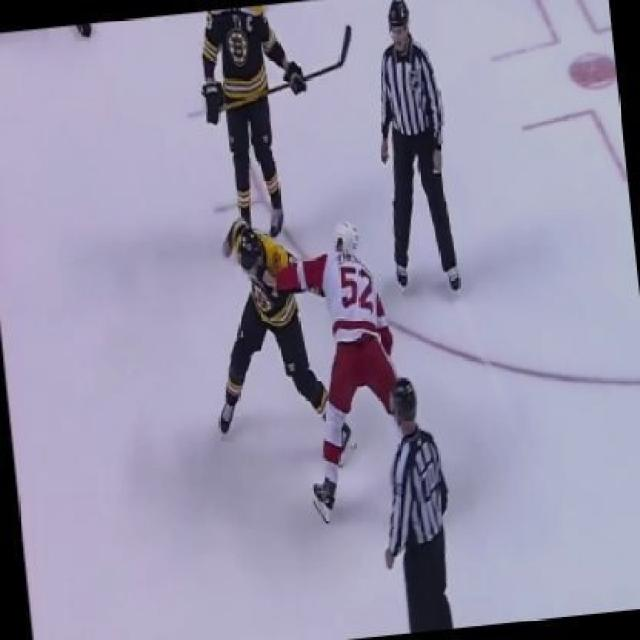fight: (194, 174, 426, 537)
non-fight: (352, 0, 472, 303), (368, 369, 477, 637)
